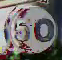Speed limit: (3, 5, 57, 58)
